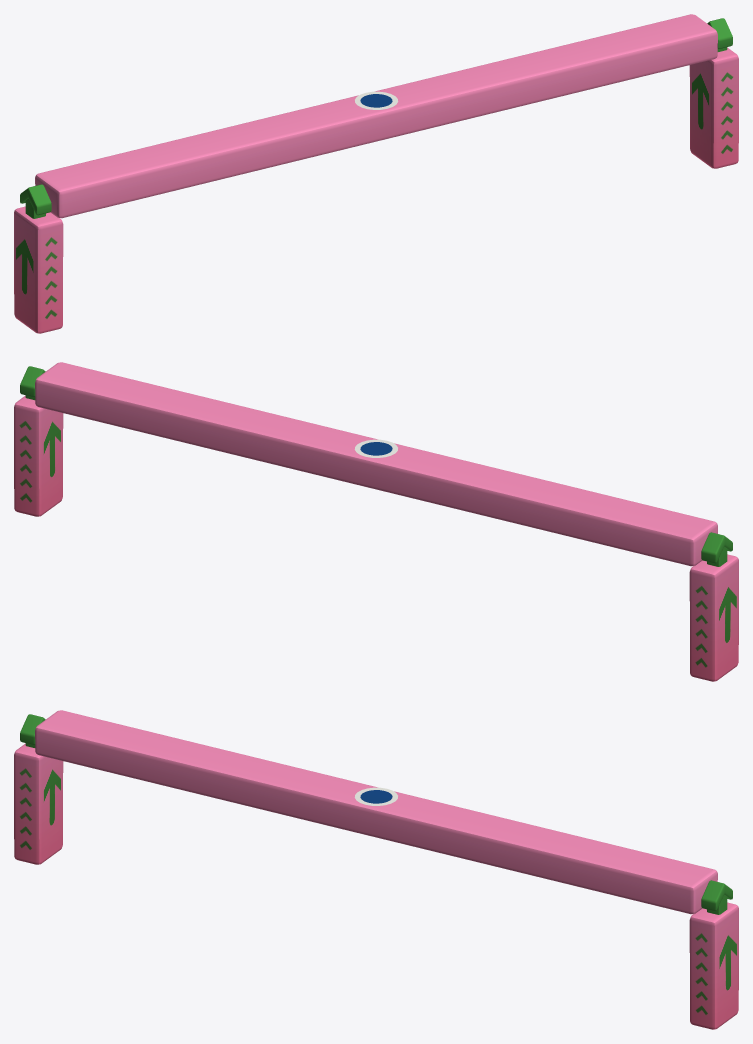
3 renders of one model, top to bottom at view 1: azimuth 30°, elevation 25°; view 2: azimuth 150°, elevation 25°; view 3: azimuth 330°, elevation 25°, orthographic.
Visible parts, largest first — view 1: shape3_9, top_cycle; view 2: shape3_9, top_cycle; view 3: shape3_9, top_cycle.
Part boxes in pixels (x1,y1,x2,y2): shape3_9: (14,14,738,333); top_cycle: (355,91,398,109); shape3_9: (14,362,738,681); top_cycle: (354,439,397,457); shape3_9: (14,710,738,1029); top_cycle: (354,787,397,805).
Size of the model in its own units: 78.96 by 15.08 by 5.
